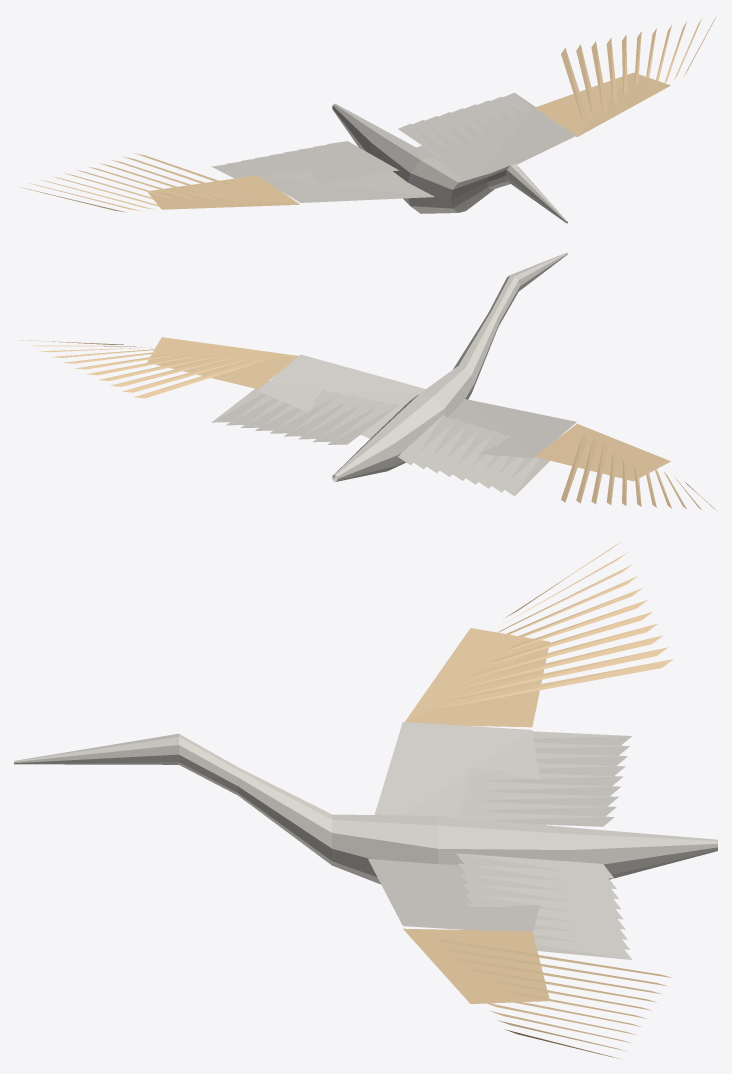
Rendered from crane.glb.
3 renders of one model, top to bottom at view 1: azimuth 30°, elevation 25°; view 2: azimuth 150°, elevation 25°; view 3: azimuth 270°, elevation 25°, orthographic. The views are drawn at different scales.
Visible parts, largest first — view 1: LeftInnerWing, RightInnerWing, CraneRoot, LeftOuterWing, RightOuterWing; view 2: LeftInnerWing, RightInnerWing, CraneRoot, LeftOuterWing, RightOuterWing; view 3: CraneRoot, RightInnerWing, LeftInnerWing, RightOuterWing, LeftOuterWing.
Part boxes in pixels (x1,y1,x2,y2): LeftInnerWing: (398, 92, 576, 180); RightInnerWing: (212, 141, 434, 202); CraneRoot: (332, 103, 567, 223); LeftOuterWing: (534, 16, 716, 136); RightOuterWing: (19, 153, 299, 212); LeftInnerWing: (211, 354, 425, 444); RightInnerWing: (398, 399, 576, 496); CraneRoot: (332, 252, 567, 481); LeftOuterWing: (15, 337, 298, 398); RightOuterWing: (534, 423, 716, 510); CraneRoot: (14, 733, 717, 884); RightInnerWing: (374, 722, 631, 826); LeftInnerWing: (368, 853, 631, 959); RightOuterWing: (405, 542, 673, 727); LeftOuterWing: (403, 928, 671, 1059).
Size of the model in its own units: 4.18 by 0.6245 by 2.39.
